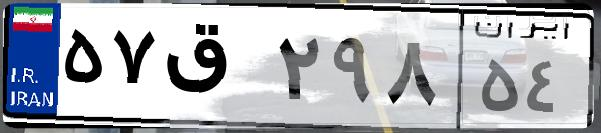2: (270, 28, 330, 110)
4: (525, 38, 570, 115)
5: (57, 26, 110, 100), (475, 38, 525, 113)
7: (110, 28, 158, 98)
8: (385, 28, 445, 110)
9: (330, 28, 385, 110)
ق: (158, 20, 270, 120)
